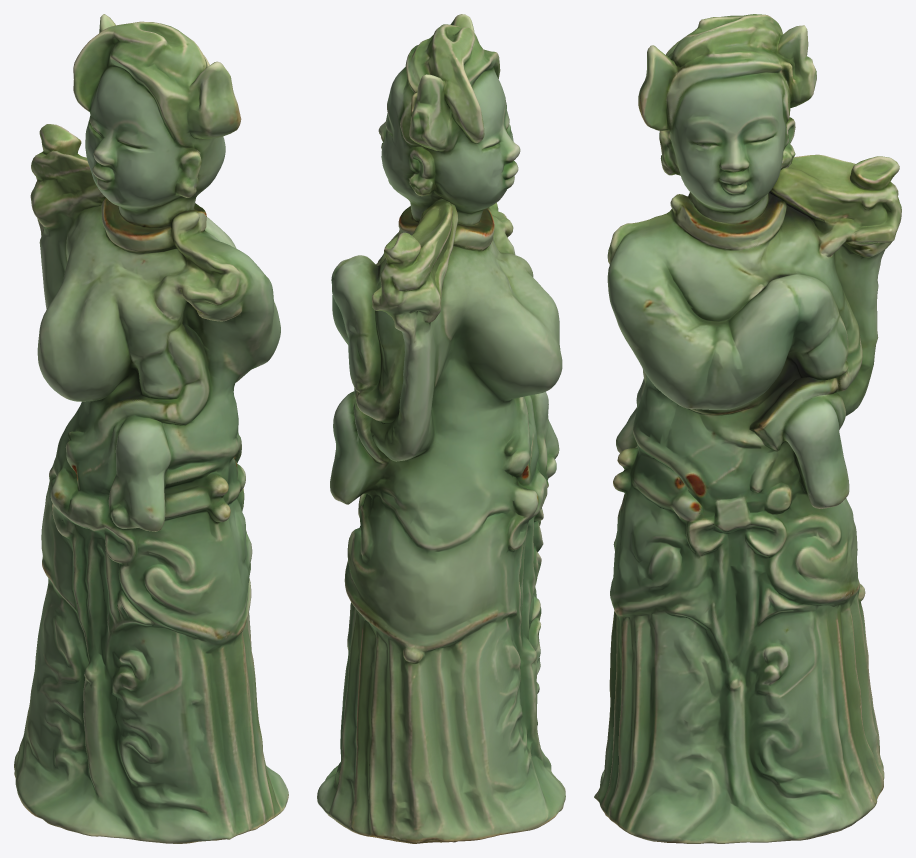
Rendered from 8cfde52c-70ef-45e1-b1f1-1c17b13f7445.glb.
3 views of the same model, side by side, from view 1: azimuth 30°, elevation 25°; view 2: azimuth 150°, elevation 25°; view 3: azimuth 270°, elevation 25° (orthographic). The views are drawn at different scales.
Visible parts, largest first — view 1: tripo_node_a096e783-fa68-4b29-985e-b1a15d4db997; view 2: tripo_node_a096e783-fa68-4b29-985e-b1a15d4db997; view 3: tripo_node_a096e783-fa68-4b29-985e-b1a15d4db997.
Boxes of the visible parts, box(x1,y1,x2,y2) form: tripo_node_a096e783-fa68-4b29-985e-b1a15d4db997: box(14, 14, 288, 843); tripo_node_a096e783-fa68-4b29-985e-b1a15d4db997: box(317, 14, 565, 843); tripo_node_a096e783-fa68-4b29-985e-b1a15d4db997: box(594, 14, 901, 843).
Size of the model in its own units: 0.2966 by 1 by 0.3593.
1 material, 1 textured.
